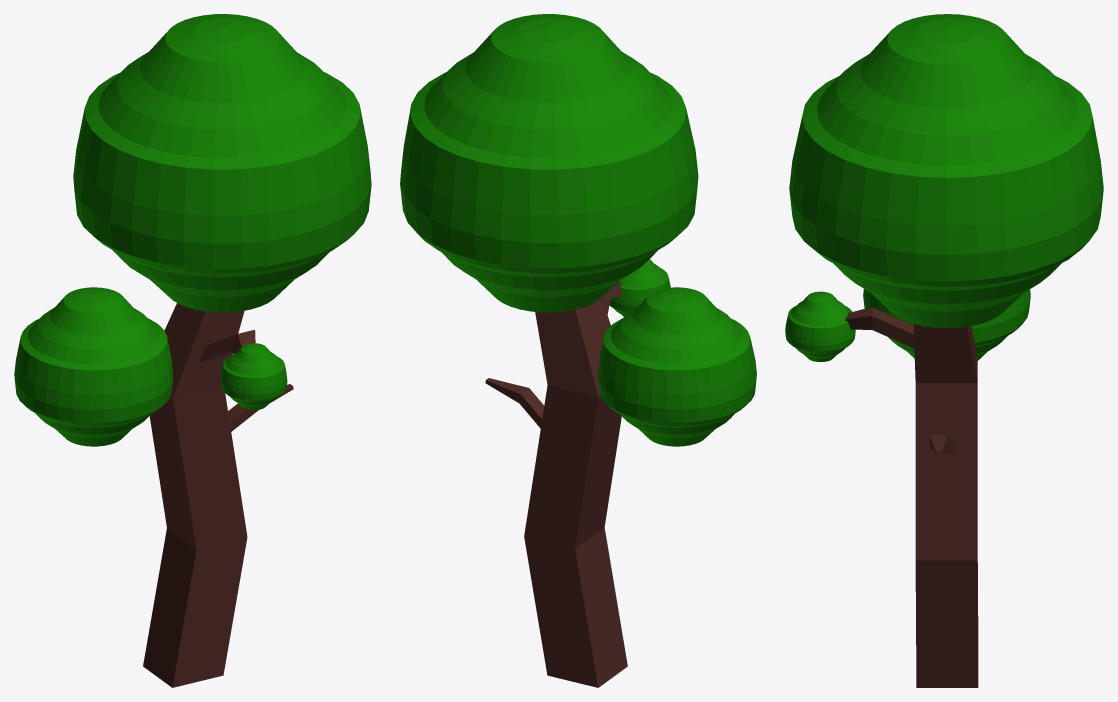
Rendered from horribleTree.fbx.
The picture shows the model from 3 angles, left to right: view 1: azimuth 30°, elevation 25°; view 2: azimuth 150°, elevation 25°; view 3: azimuth 270°, elevation 25°; orthographic projection. The views are drawn at different scales.
Parts seen in each view (by area): view 1: Sphere, Cube, Sphere.001, Sphere.002; view 2: Sphere, Cube, Sphere.001, Sphere.002; view 3: Sphere, Cube, Sphere.002, Sphere.001.
Boxes of the visible parts, left/top/right/bottom form: Sphere: left=73, top=14, right=371, bottom=312; Cube: left=143, top=303, right=293, bottom=687; Sphere.001: left=14, top=287, right=173, bottom=446; Sphere.002: left=220, top=343, right=287, bottom=410; Sphere: left=400, top=14, right=698, bottom=312; Cube: left=485, top=282, right=627, bottom=687; Sphere.001: left=598, top=287, right=756, bottom=446; Sphere.002: left=609, top=259, right=670, bottom=316; Sphere: left=789, top=14, right=1103, bottom=328; Cube: left=845, top=307, right=978, bottom=687; Sphere.002: left=785, top=291, right=855, bottom=362; Sphere.001: left=863, top=289, right=1030, bottom=360.
Bounding box in the file's own units: 512 × 949 × 411.
